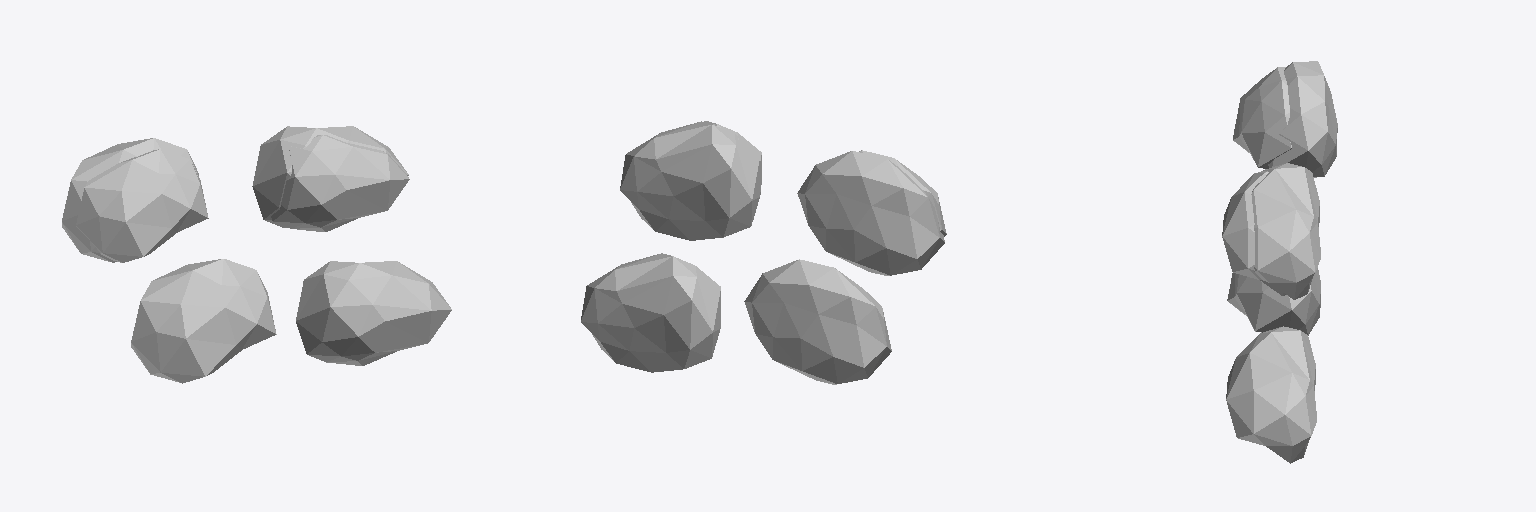
The model's file is rocks.obj.
3 views of the same model, side by side, from view 1: azimuth 30°, elevation 25°; view 2: azimuth 150°, elevation 25°; view 3: azimuth 270°, elevation 25° (orthographic).
Parts seen in each view (by area): view 1: Icosphere.007_Icosphere.001, Icosphere.008_Icosphere.007, Icosphere.001_Icosphere.000, Icosphere.002_Icosphere.004; view 2: Icosphere.007_Icosphere.001, Icosphere.001_Icosphere.000, Icosphere.008_Icosphere.007, Icosphere.002_Icosphere.004; view 3: Icosphere.001_Icosphere.000, Icosphere.002_Icosphere.004, Icosphere.007_Icosphere.001, Icosphere.008_Icosphere.007.
Part boxes in pixels (x1,y1,x2,y2): Icosphere.007_Icosphere.001: (62, 138, 208, 262); Icosphere.008_Icosphere.007: (131, 259, 276, 383); Icosphere.001_Icosphere.000: (252, 126, 409, 231); Icosphere.002_Icosphere.004: (296, 261, 451, 365); Icosphere.007_Icosphere.001: (797, 150, 946, 275); Icosphere.001_Icosphere.000: (620, 121, 761, 240); Icosphere.008_Icosphere.007: (744, 259, 891, 384); Icosphere.002_Icosphere.004: (581, 253, 720, 372); Icosphere.001_Icosphere.000: (1222, 163, 1320, 299); Icosphere.002_Icosphere.004: (1226, 326, 1316, 463); Icosphere.007_Icosphere.001: (1233, 61, 1337, 177); Icosphere.008_Icosphere.007: (1227, 268, 1320, 335).
Size of the model in its own units: 6.75 by 4.74 by 1.85.